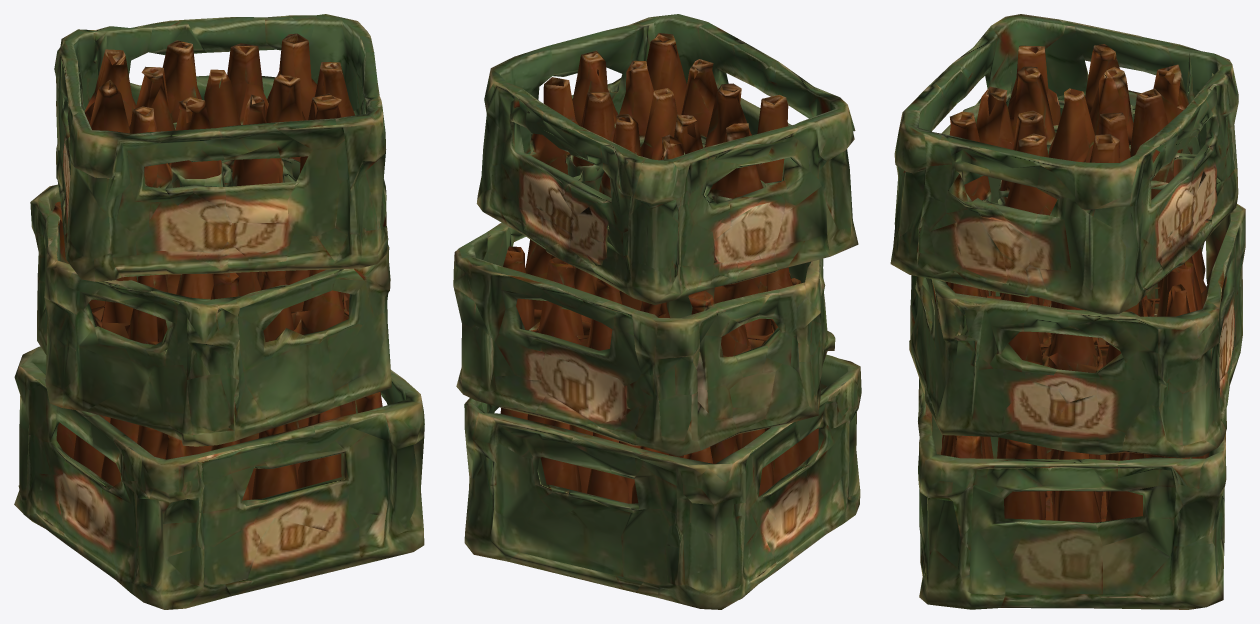
Rendered from d_crates.glb.
The picture shows the model from 3 angles, left to right: view 1: azimuth 30°, elevation 25°; view 2: azimuth 150°, elevation 25°; view 3: azimuth 270°, elevation 25°; orthographic projection. The views are drawn at different scales.
Size of the model in its own units: 1.47 by 1.88 by 1.34.
Materials: 1 (1 with a texture image).
